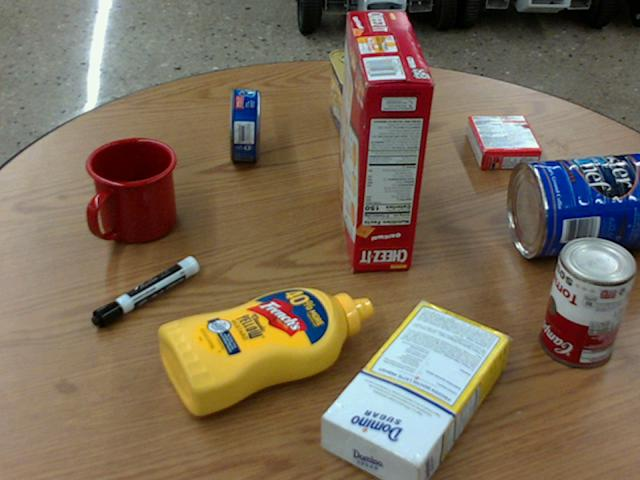cracker_box: (337, 10, 434, 270)
gelatin_box: (466, 114, 541, 168)
large_marker: (90, 255, 197, 327)
master_chef_can: (507, 150, 639, 256)
mug: (85, 138, 176, 244)
mustard_bottle: (157, 286, 372, 416)
potted_meat_can: (328, 48, 385, 143)
sugar_box: (319, 300, 509, 479)
tomato_soup_can: (541, 233, 635, 364)
tuna_fish_can: (228, 87, 260, 160)
